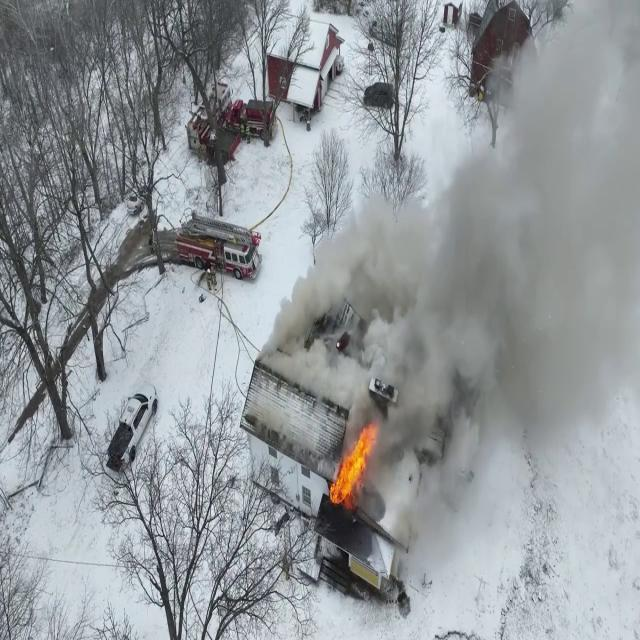Fire: (328, 418, 382, 509)
Smoke: (385, 0, 640, 510), (266, 180, 487, 353)
